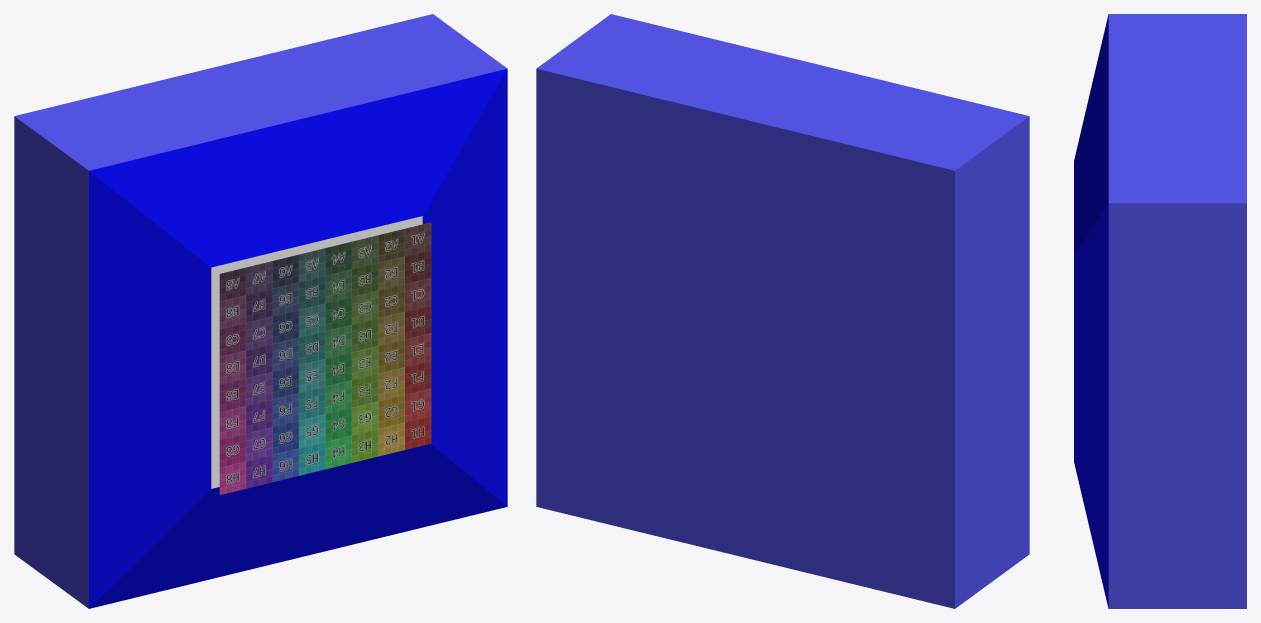
Rendered from Entry.obj.
3 views of the same model, side by side, from view 1: azimuth 30°, elevation 25°; view 2: azimuth 150°, elevation 25°; view 3: azimuth 270°, elevation 25° (orthographic). The views are drawn at different scales.
Parts seen in each view (by area): view 1: Cube; view 2: Cube; view 3: Cube.
Part boxes in pixels (left/top/right/bottom): Cube: left=14, top=14, right=507, bottom=608; Cube: left=536, top=14, right=1029, bottom=608; Cube: left=1074, top=14, right=1246, bottom=608.
Bounding box in the file's own units: 40.08 × 40.08 × 16.9.
Materials: 2 (2 with a texture image).
